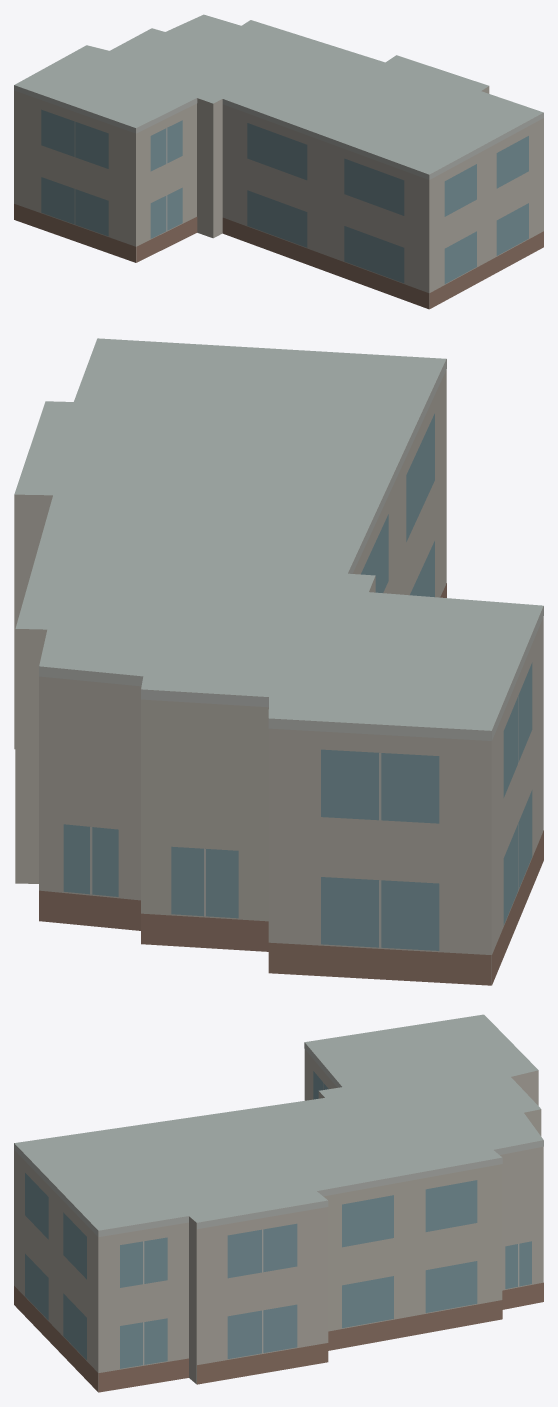
The model's file is survey-upis-32691453.glb.
3 views of the same model, one above another, from view 1: azimuth 30°, elevation 25°; view 2: azimuth 150°, elevation 25°; view 3: azimuth 270°, elevation 25° (orthographic). The views are drawn at different scales.
Parts seen in each view (by area): view 1: survey-upis-32691453.tmp; view 2: survey-upis-32691453.tmp; view 3: survey-upis-32691453.tmp.
Boxes of the visible parts, left/top/right/bottom form: survey-upis-32691453.tmp: left=14, top=14, right=543, bottom=309; survey-upis-32691453.tmp: left=14, top=338, right=543, bottom=985; survey-upis-32691453.tmp: left=14, top=1014, right=543, bottom=1392.
Size of the model in its own units: 17.51 by 6.1 by 18.11.
